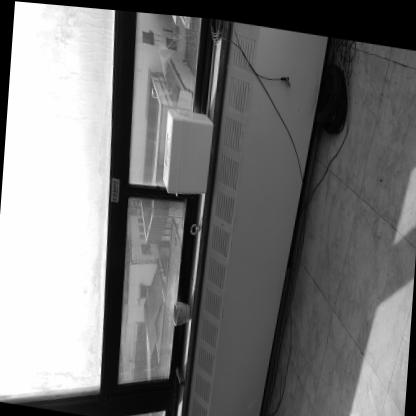DDL: (161, 104, 214, 194)
